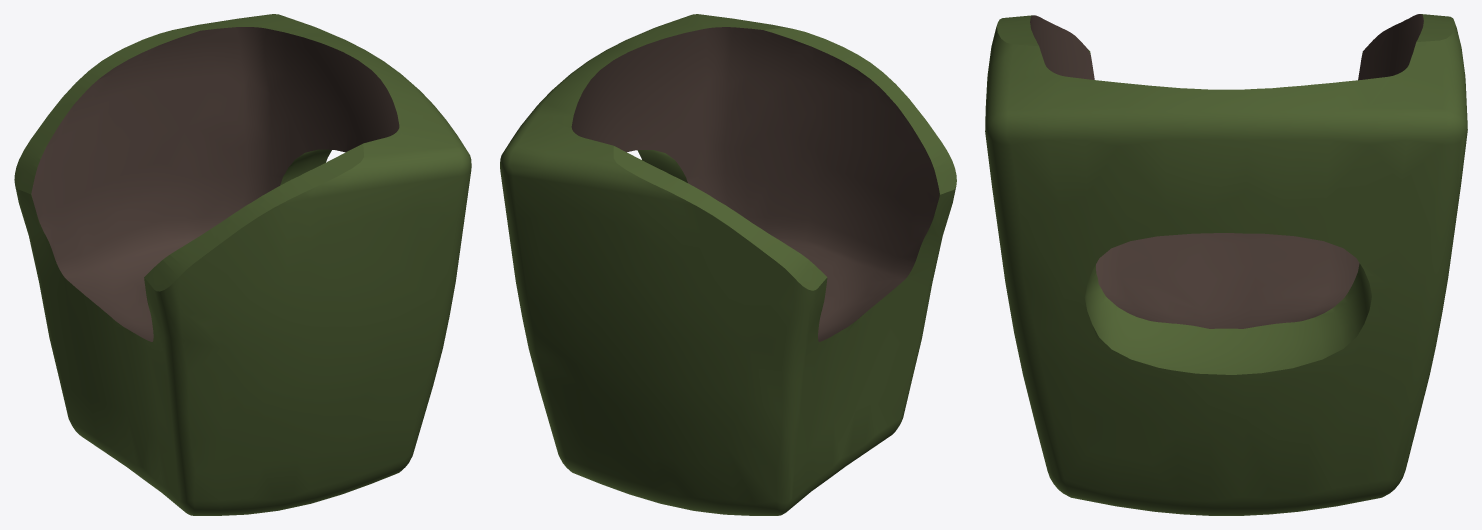
File: chair.obj
3 views of the same model, side by side, from view 1: azimuth 30°, elevation 25°; view 2: azimuth 150°, elevation 25°; view 3: azimuth 270°, elevation 25° (orthographic). The views are drawn at different scales.
Parts seen in each view (by area): view 1: chair02; view 2: chair02; view 3: chair02.
Boxes of the visible parts, <box> form: chair02: <box>14,14,471,515</box>; chair02: <box>500,14,956,515</box>; chair02: <box>985,14,1467,515</box>.
Size of the model in its own units: 63.32 by 70.39 by 69.75.
